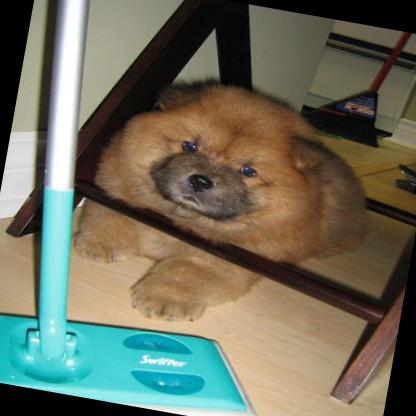chow: (59, 56, 391, 353)
